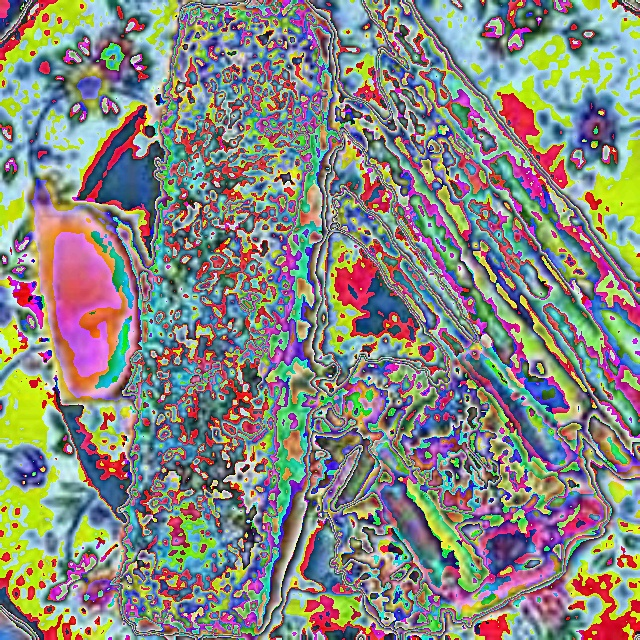background: (30, 0, 639, 640)
